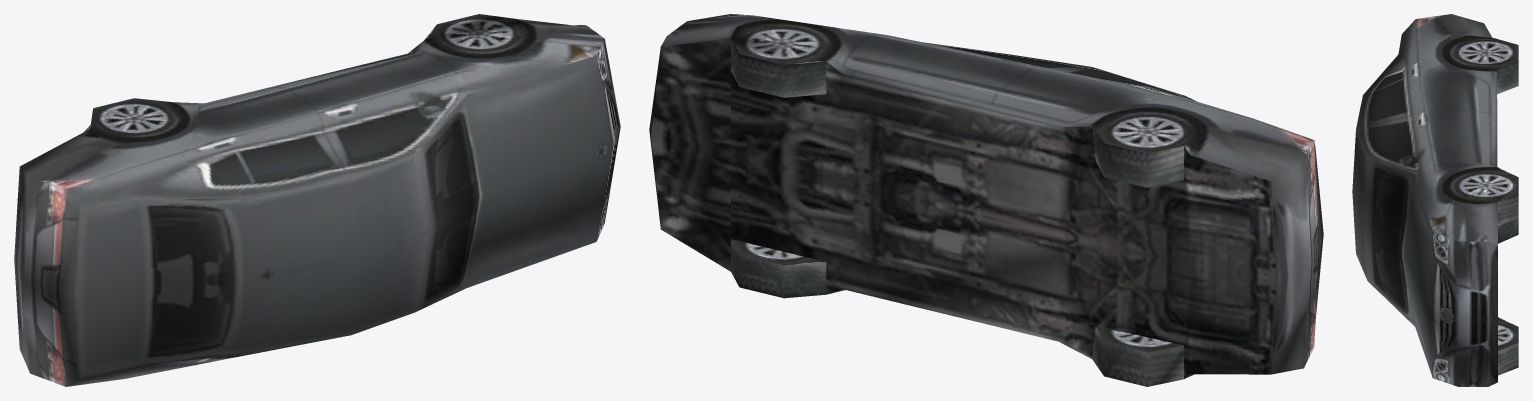
File: ny_harbor_veh_civ_car_a_2_LOD0.obj
3 renders of one model, left to right at view 1: azimuth 30°, elevation 25°; view 2: azimuth 150°, elevation 25°; view 3: azimuth 270°, elevation 25°, orthographic. The views are drawn at different scales.
Parts seen in each view (by area): view 1: mtl_ac_prs_vehicle_sheet_a; view 2: mtl_ac_prs_vehicle_sheet_a; view 3: mtl_ac_prs_vehicle_sheet_a.
Part boxes in pixels (x1=…): mtl_ac_prs_vehicle_sheet_a: x1=14, y1=14, x2=620, y2=386; mtl_ac_prs_vehicle_sheet_a: x1=649, y1=14, x2=1323, y2=386; mtl_ac_prs_vehicle_sheet_a: x1=1352, y1=14, x2=1518, y2=386.
Bounding box in the file's own units: 527 × 185 × 160.
